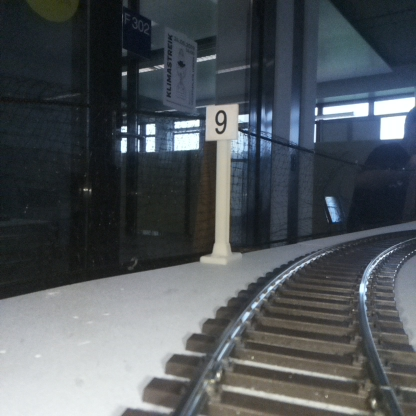white-info-9: (205, 102, 238, 262)
